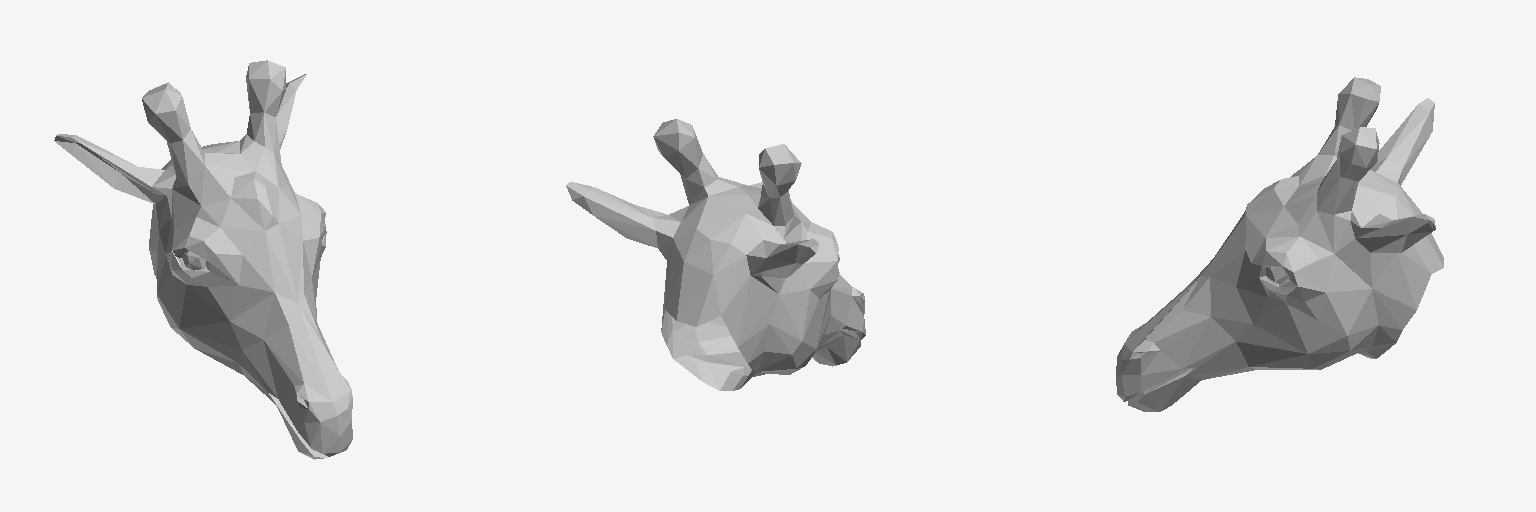
The model's file is cabezaJirafa.obj.
3 renders of one model, left to right at view 1: azimuth 30°, elevation 25°; view 2: azimuth 150°, elevation 25°; view 3: azimuth 270°, elevation 25°, orthographic.
Parts seen in each view (by area): view 1: cabezaJirafa; view 2: cabezaJirafa; view 3: cabezaJirafa.
Part boxes in pixels (bbox=[...]): cabezaJirafa: bbox=[54, 60, 352, 459]; cabezaJirafa: bbox=[566, 119, 865, 390]; cabezaJirafa: bbox=[1116, 77, 1443, 411].
Bounding box in the file's own units: 0.8103 × 0.948 × 0.9174.